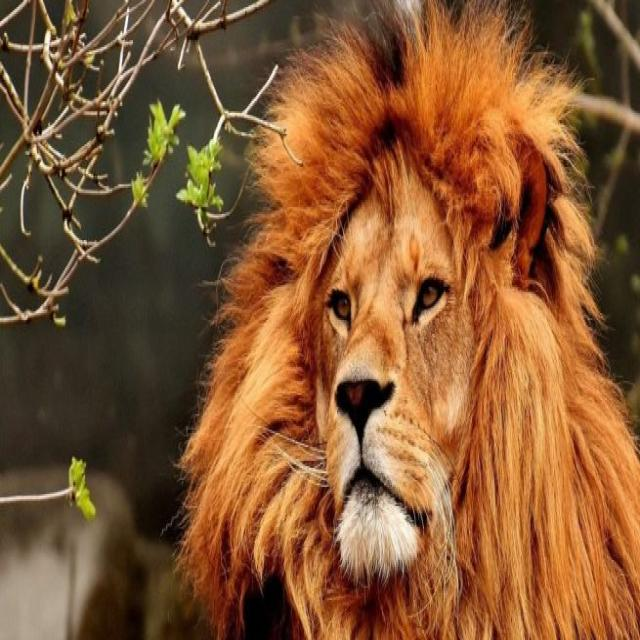Carnivorous: (175, 0, 640, 640)
